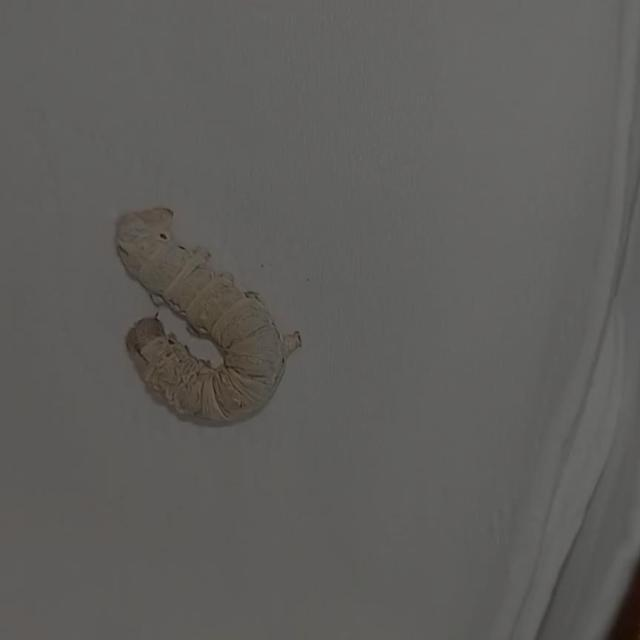Healthy: (95, 177, 317, 436)
